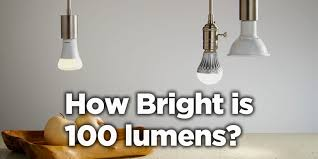bulb: (182, 57, 235, 92), (53, 48, 92, 81)
